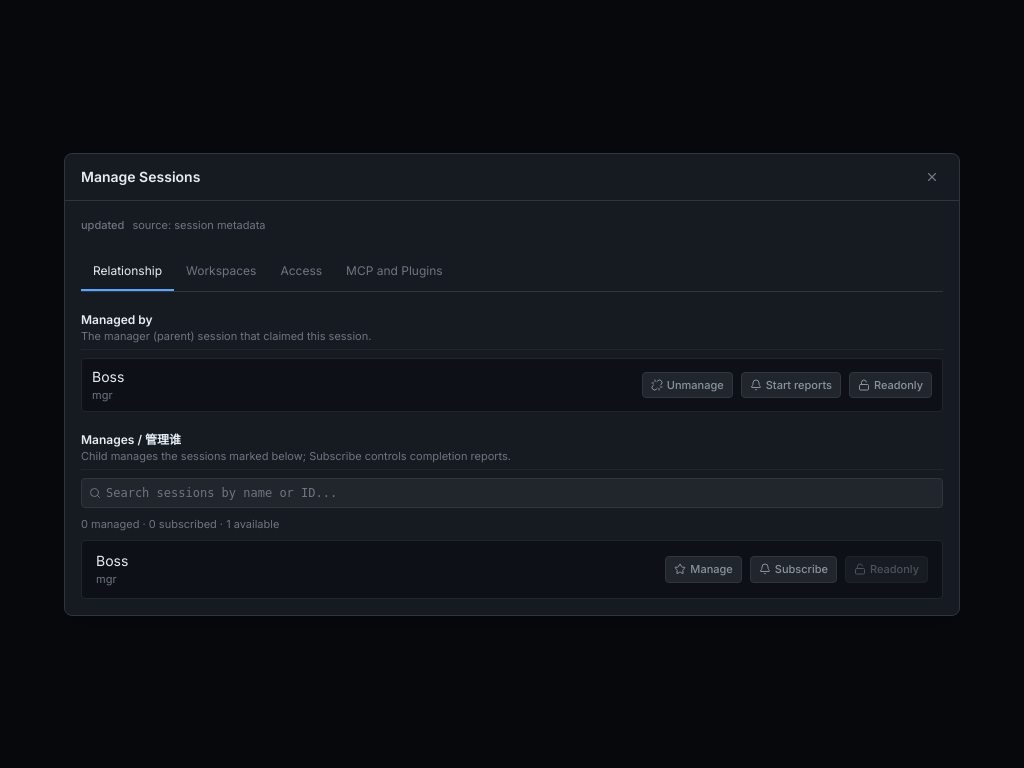
Scenario: ManageModal › shows the managing session and detaches it via unclaim
expect the text "Boss" below "Managed by" is shown: met, box [92,368,124,384]
expect the text "mgr" below "Managed by" is shown: met, box [92,388,112,402]
Click the button titled "Break the manage link" at [687, 385], box [642,372,733,398]
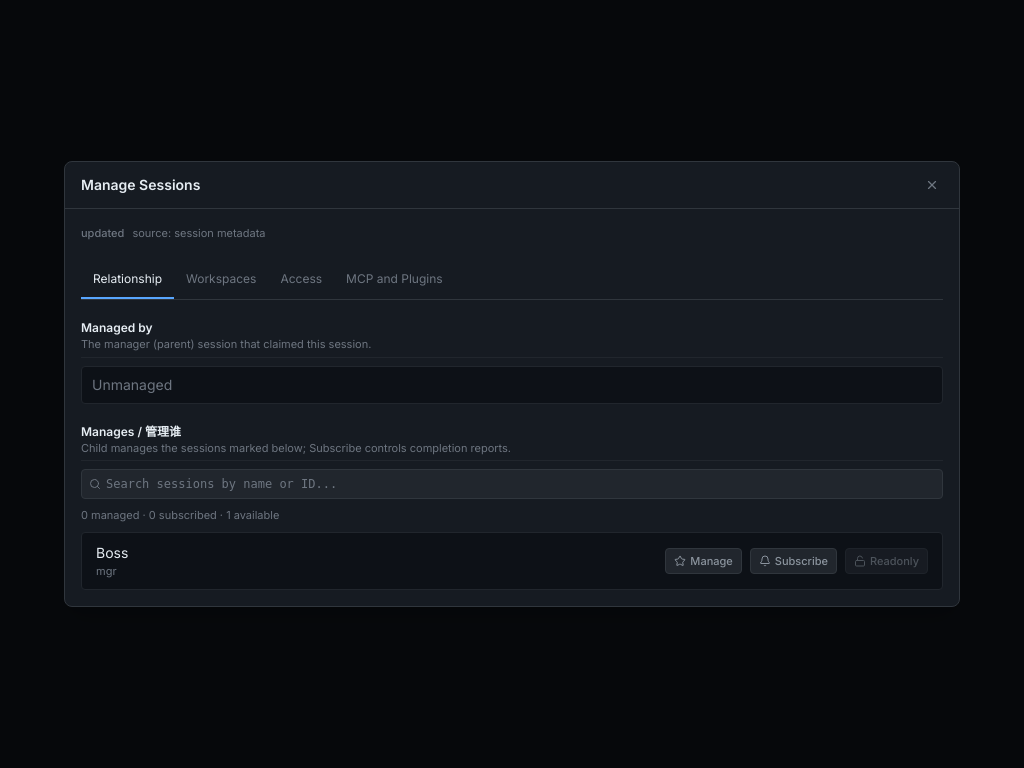
expect the text "Unmanaged" is shown: met, box [92,376,172,393]
